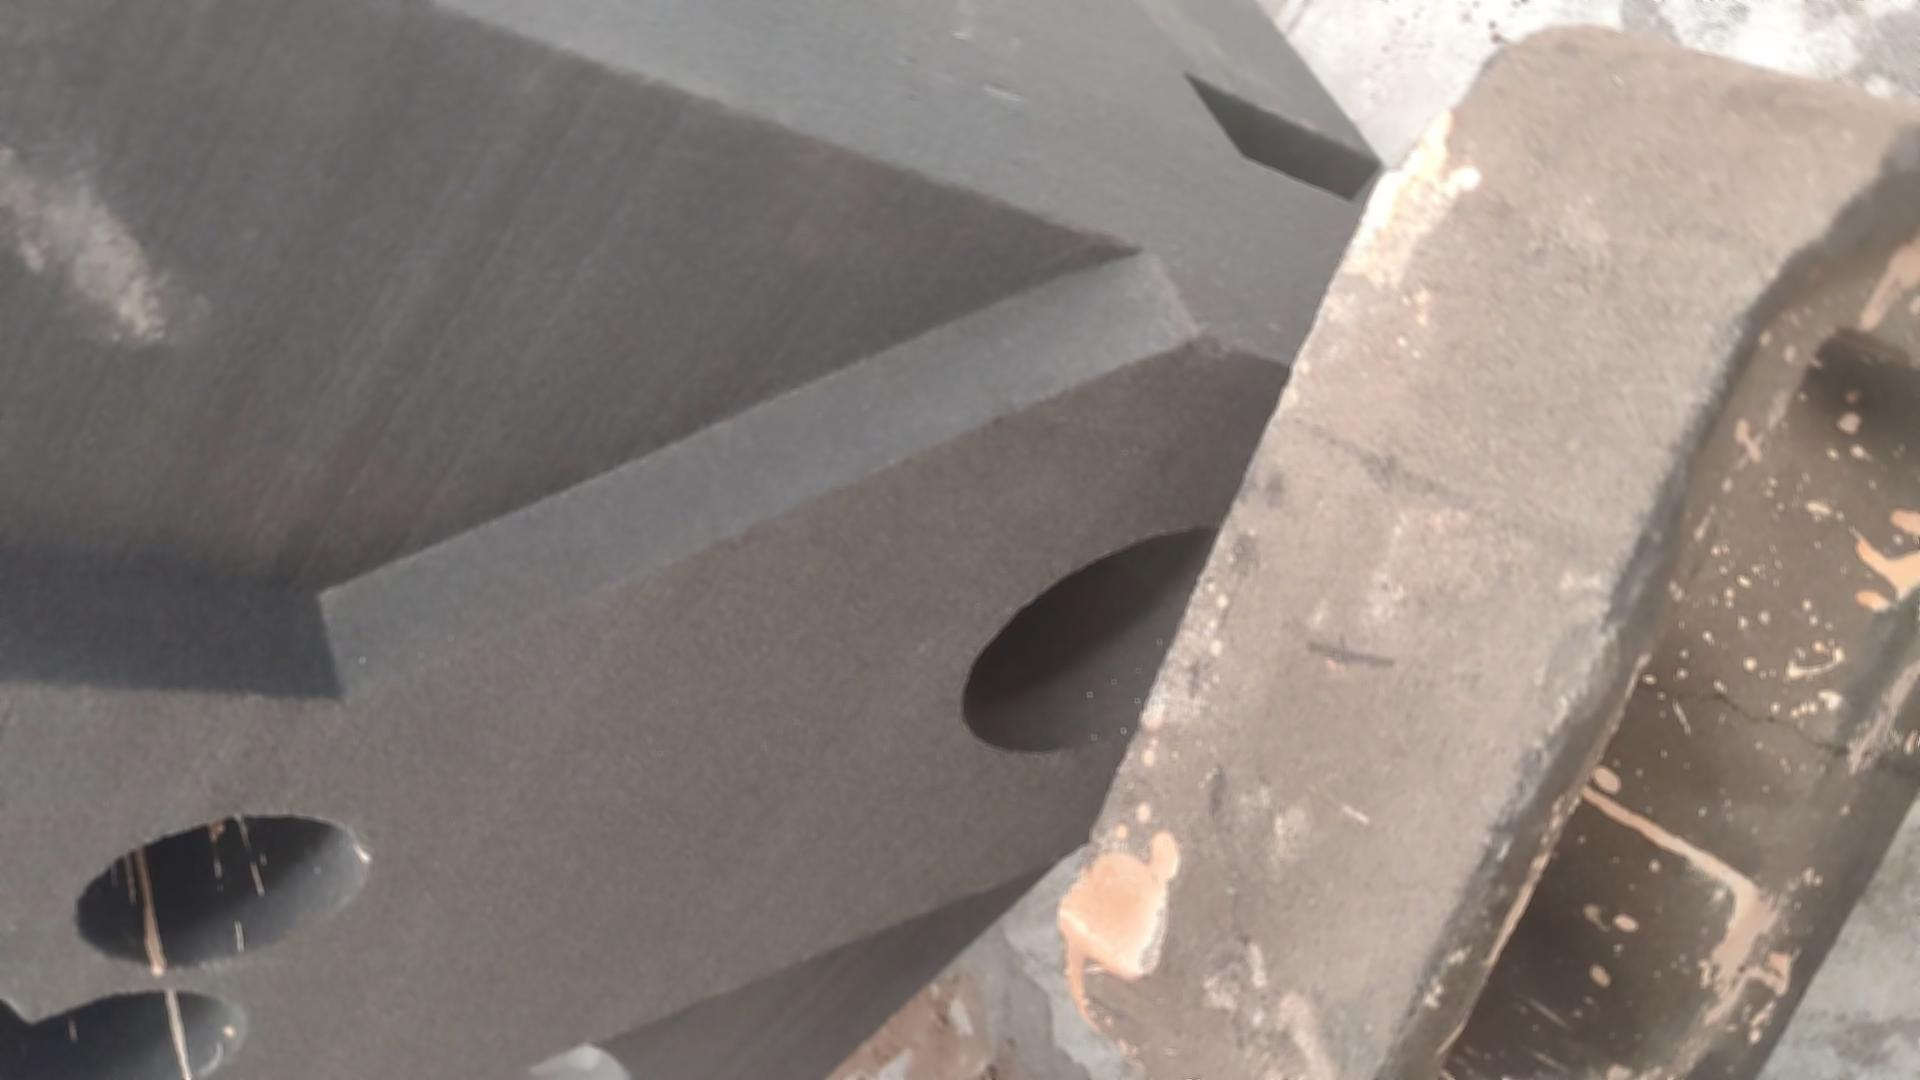pouring hole: (961, 524, 1259, 753)
